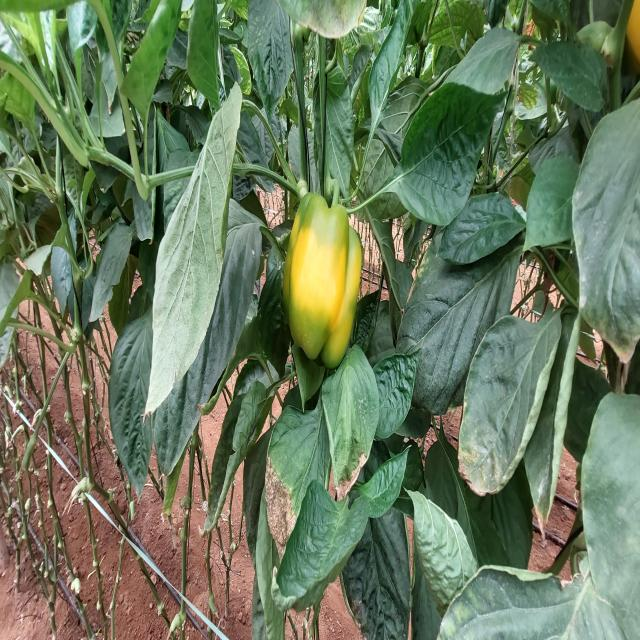GreenishYellow--Can-be-Harvested: (276, 174, 370, 386)
